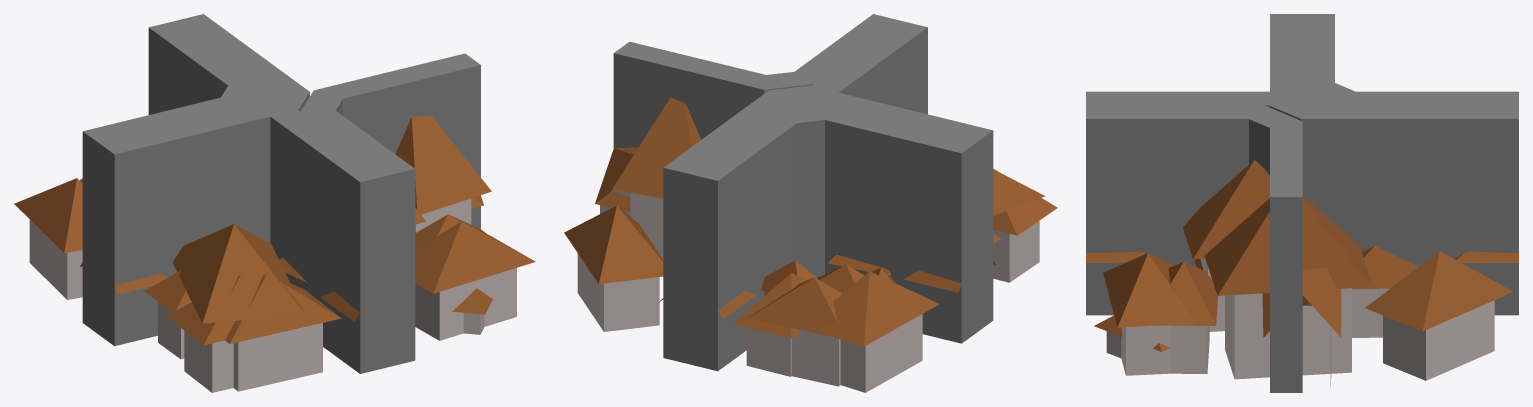
Rendered from TownModules.fbx.
The picture shows the model from 3 angles, left to right: view 1: azimuth 30°, elevation 25°; view 2: azimuth 150°, elevation 25°; view 3: azimuth 270°, elevation 25°; orthographic projection. The views are drawn at different scales.
Visible parts, largest first — view 1: InCorner, Side, OnPass, Corner, Full; view 2: Corner, OnPass, InCorner, Side, Full; view 3: InCorner, OnPass, Full, Corner, Side.
Part boxes in pixels (left/top/right/bottom): InCorner: left=98, top=14, right=535, bottom=391; Side: left=114, top=21, right=387, bottom=373; OnPass: left=84, top=22, right=486, bottom=367; Corner: left=79, top=21, right=266, bottom=334; Full: left=14, top=178, right=492, bottom=392; Corner: left=690, top=103, right=977, bottom=386; OnPass: left=613, top=14, right=974, bottom=369; InCorner: left=564, top=85, right=1000, bottom=364; Side: left=693, top=20, right=1045, bottom=376; Full: left=595, top=169, right=1057, bottom=392; InCorner: left=1086, top=14, right=1518, bottom=387; OnPass: left=1086, top=14, right=1518, bottom=392; Full: left=1094, top=160, right=1518, bottom=357; Corner: left=1302, top=14, right=1518, bottom=105; Side: left=1086, top=91, right=1518, bottom=107.
Bounding box in the file's own units: 200 × 100 × 200.
